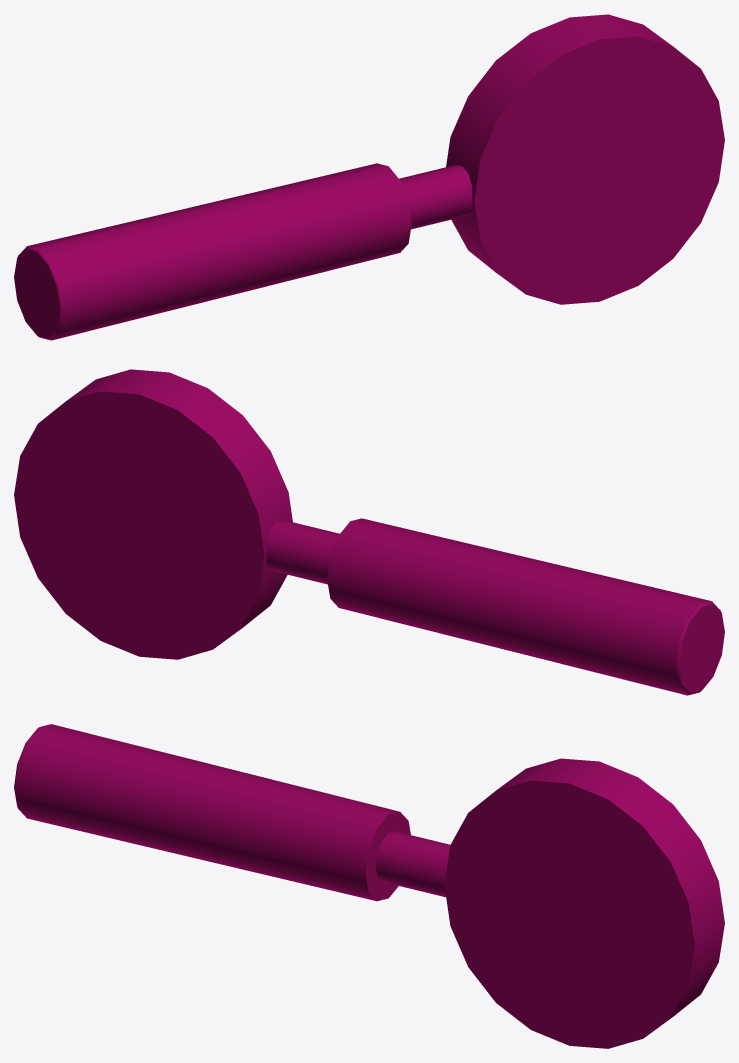
The model's file is Lever_Handle.fbx.
3 renders of one model, top to bottom at view 1: azimuth 30°, elevation 25°; view 2: azimuth 150°, elevation 25°; view 3: azimuth 330°, elevation 25°, orthographic.
Visible parts, largest first — view 1: Lever_Handle; view 2: Lever_Handle; view 3: Lever_Handle.
Boxes of the visible parts, box(x1,y1,x2,y2) form: Lever_Handle: box(14, 14, 724, 340); Lever_Handle: box(14, 369, 724, 695); Lever_Handle: box(14, 724, 724, 1048).
Bounding box in the file's own units: 47.9 × 17.85 × 6.01.
